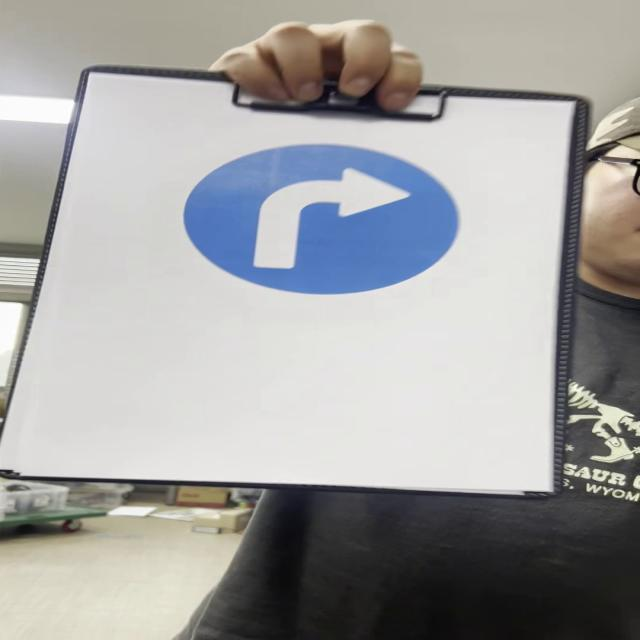right: (188, 144, 460, 294)
